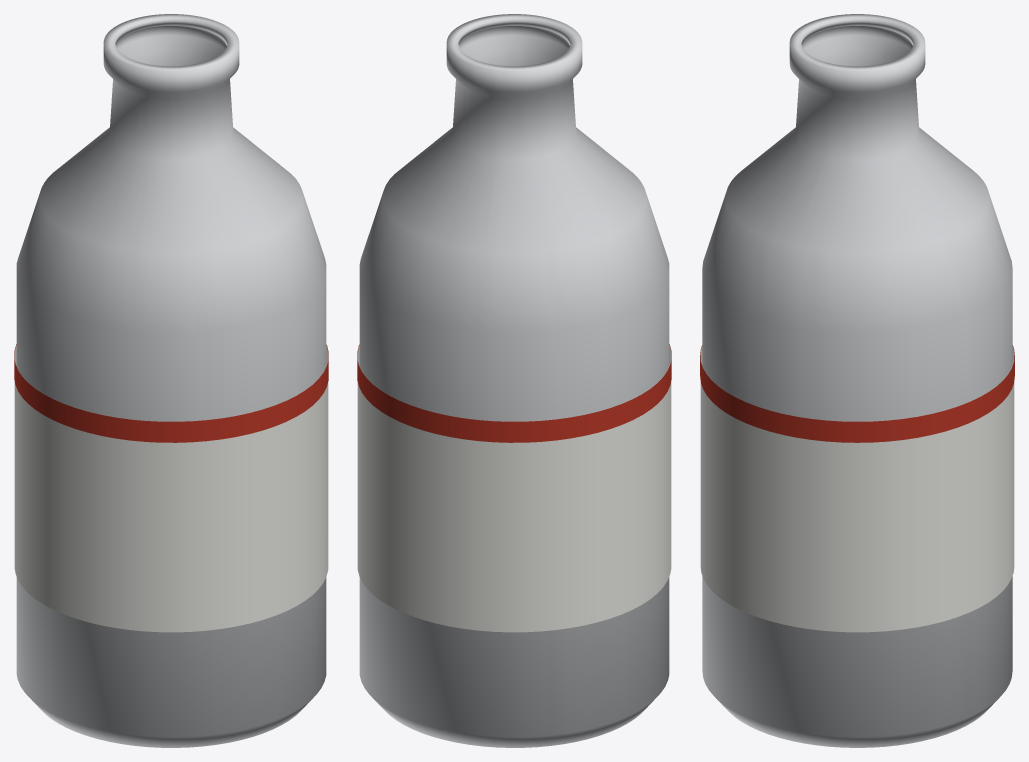
Rendered from naoh-bottle.glb.
3 views of the same model, side by side, from view 1: azimuth 30°, elevation 25°; view 2: azimuth 150°, elevation 25°; view 3: azimuth 270°, elevation 25° (orthographic).
Parts seen in each view (by area): view 1: bottle_glass, label_naoh, hazard_band; view 2: bottle_glass, label_naoh, hazard_band; view 3: bottle_glass, label_naoh, hazard_band.
Part boxes in pixels (x1,y1,x2,y2): bottle_glass: [16, 14, 326, 747]; label_naoh: [14, 345, 328, 632]; hazard_band: [14, 344, 328, 442]; bottle_glass: [359, 14, 669, 747]; label_naoh: [357, 345, 671, 632]; hazard_band: [357, 344, 671, 442]; bottle_glass: [702, 14, 1012, 747]; label_naoh: [700, 346, 1014, 632]; hazard_band: [700, 345, 1014, 442].
Bounding box in the file's own units: 0.0812 × 0.184 × 0.0812.
